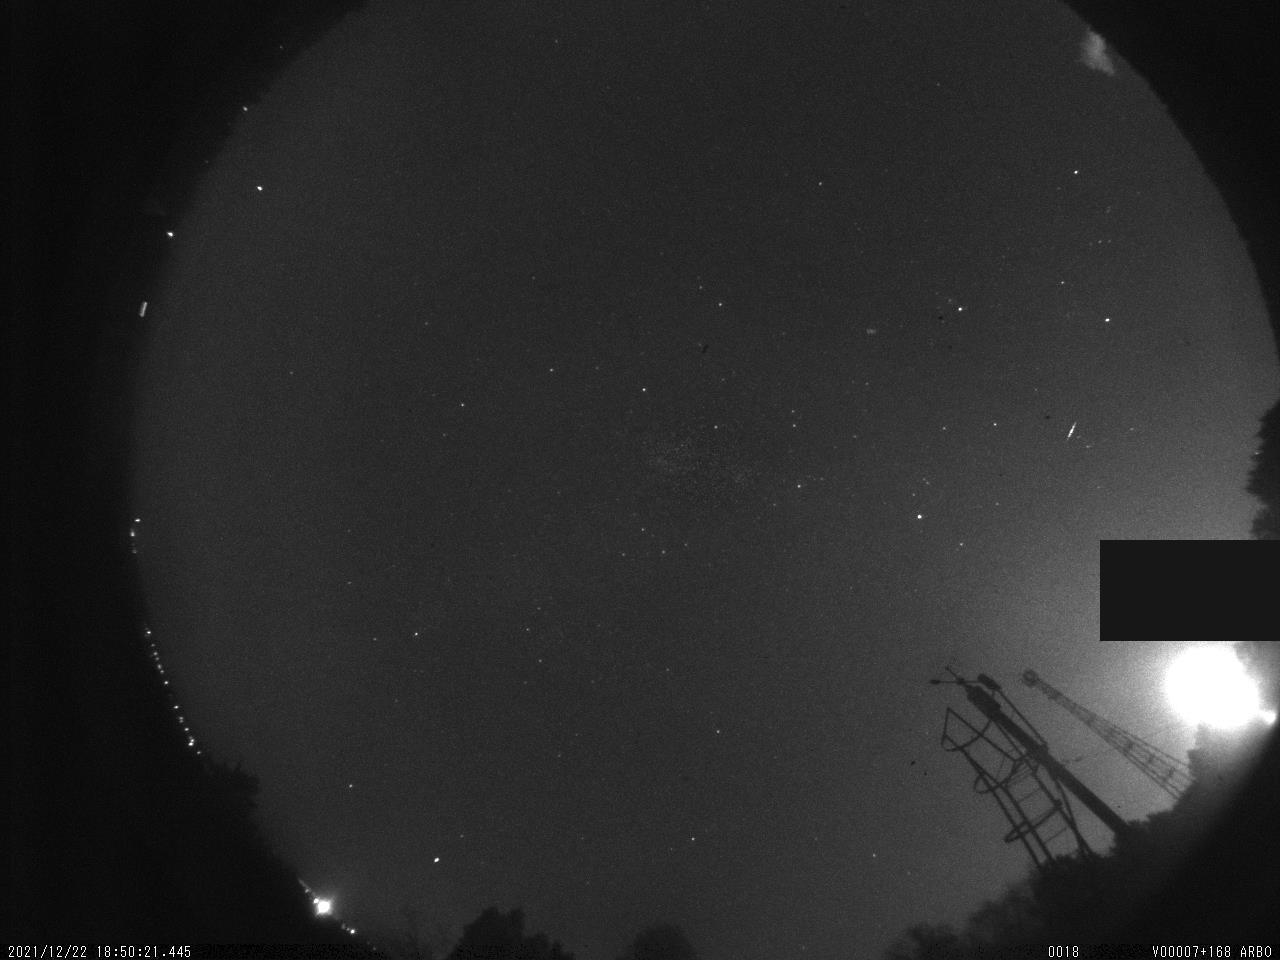meteor: (1054, 411, 1097, 457)
